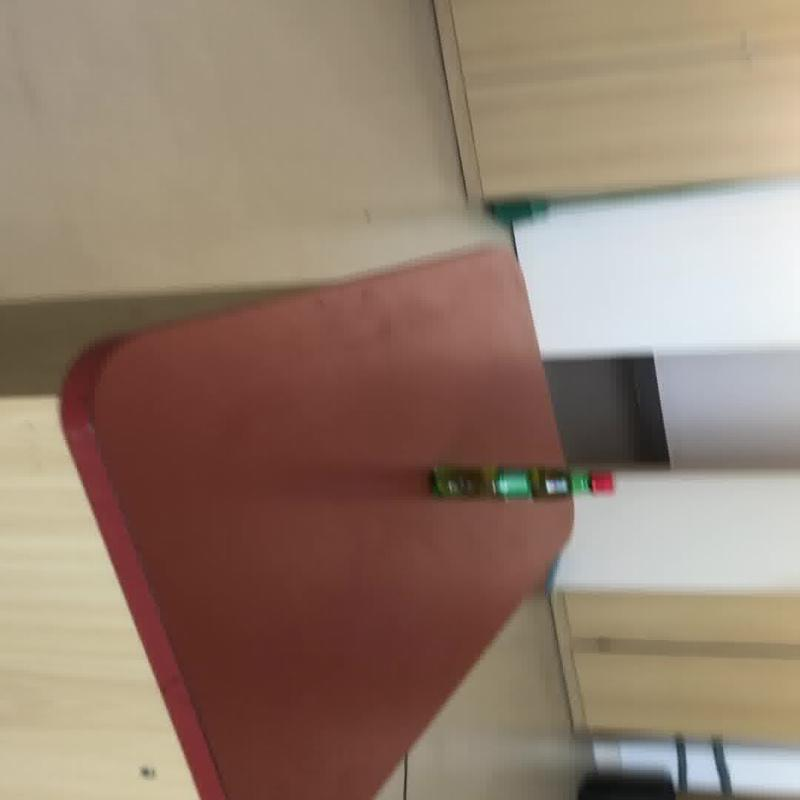guarana: (57, 241, 598, 798), (427, 464, 614, 500)
